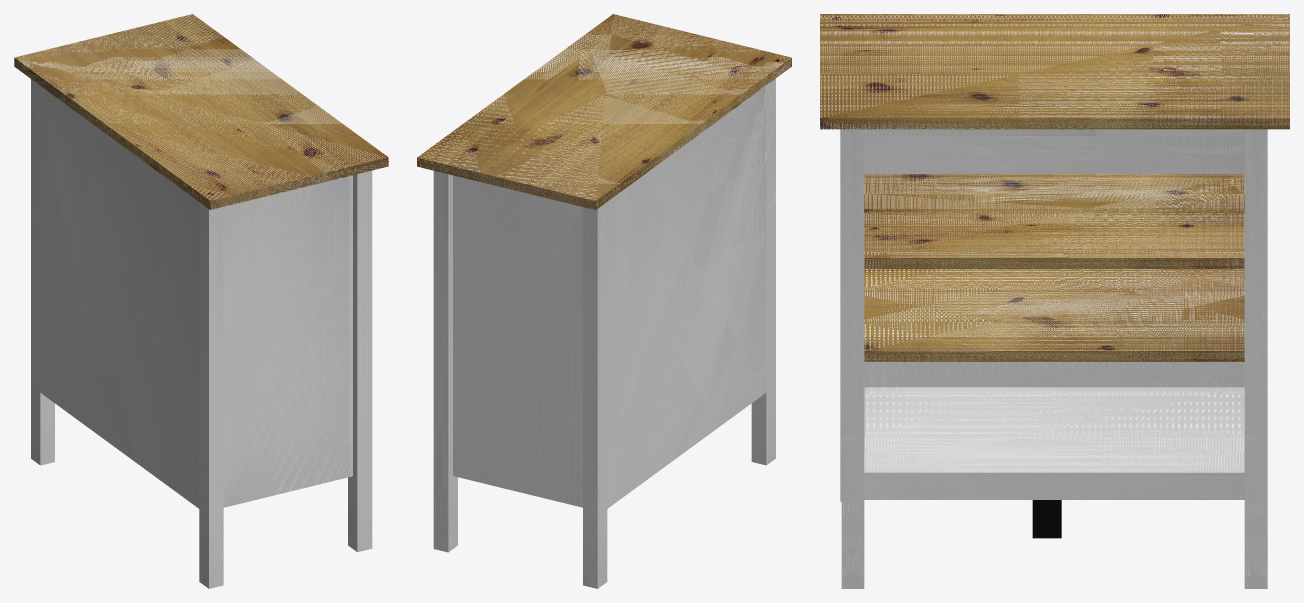
File: shelf_white.dae
3 views of the same model, side by side, from view 1: azimuth 30°, elevation 25°; view 2: azimuth 150°, elevation 25°; view 3: azimuth 270°, elevation 25° (orthographic). The views are drawn at different scales.
Parts seen in each view (by area): view 1: SketchUp (×2); view 2: SketchUp (×2); view 3: SketchUp (×5).
Part boxes in pixels (x1,y1,x2,y2): SketchUp (×2): (14, 14, 388, 588); SketchUp (×2): (417, 14, 791, 588); SketchUp (×5): (820, 14, 1289, 588).
Bounding box in the file's own units: 0.4101 × 0.7795 × 0.8696.
6 materials, 4 textured.
